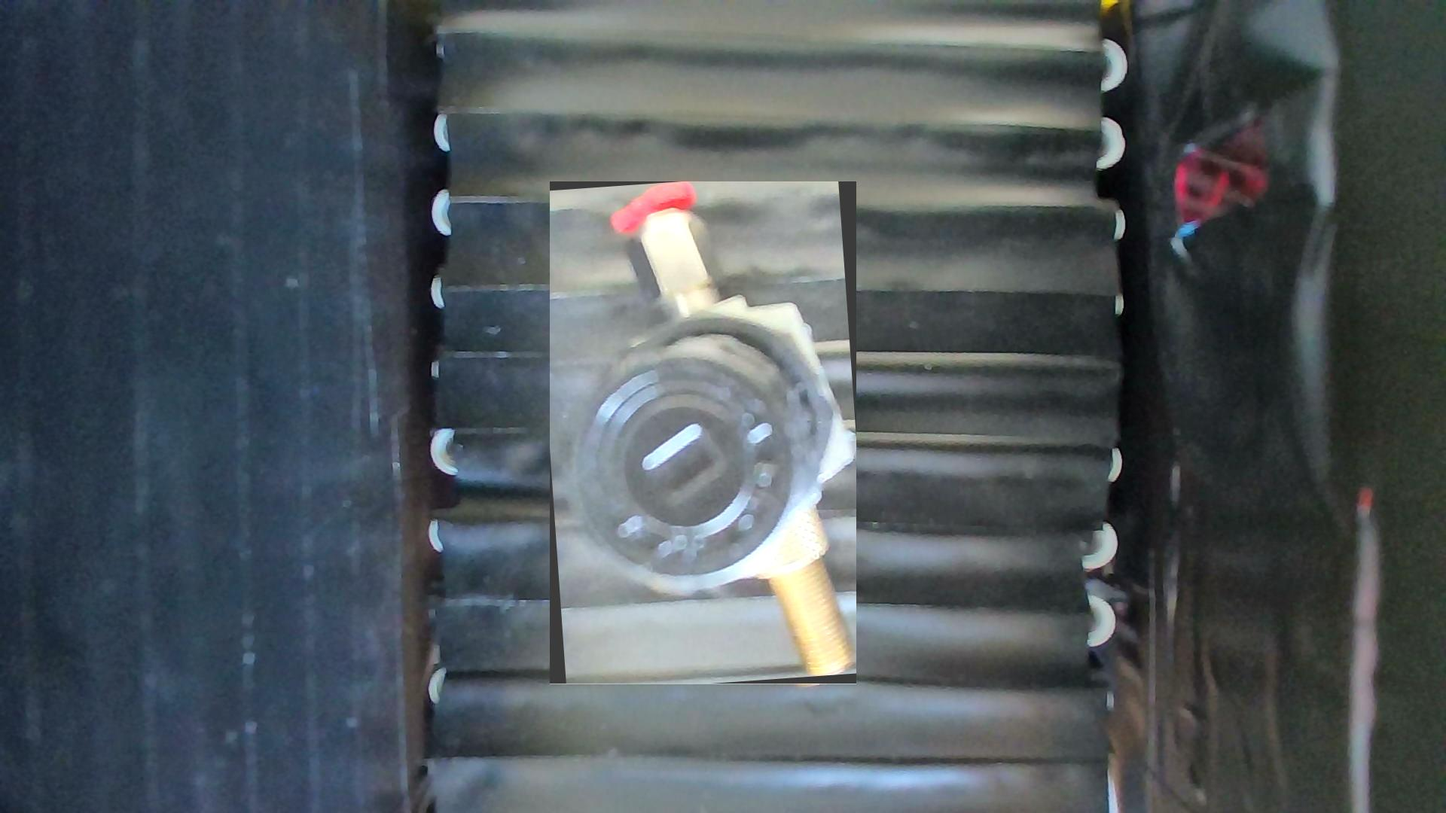regulator: (550, 182, 856, 685)
